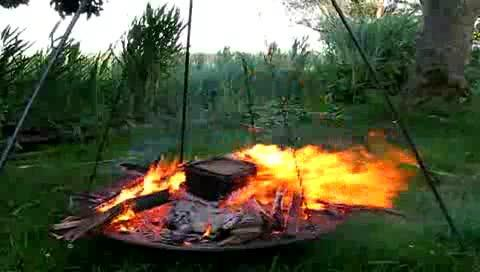fire: (101, 144, 410, 228)
